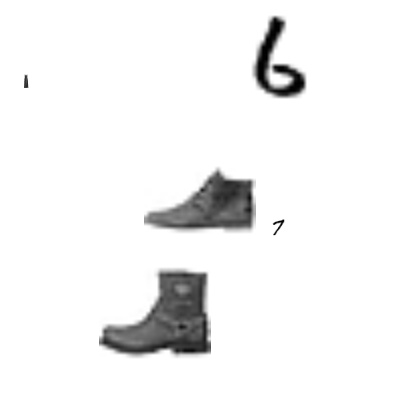3: (164, 184, 178, 198)
6: (217, 5, 329, 117)
7: (267, 214, 289, 236)
Ankle_boot: (99, 257, 211, 369), (144, 144, 256, 256)
Dress: (19, 74, 33, 88)
